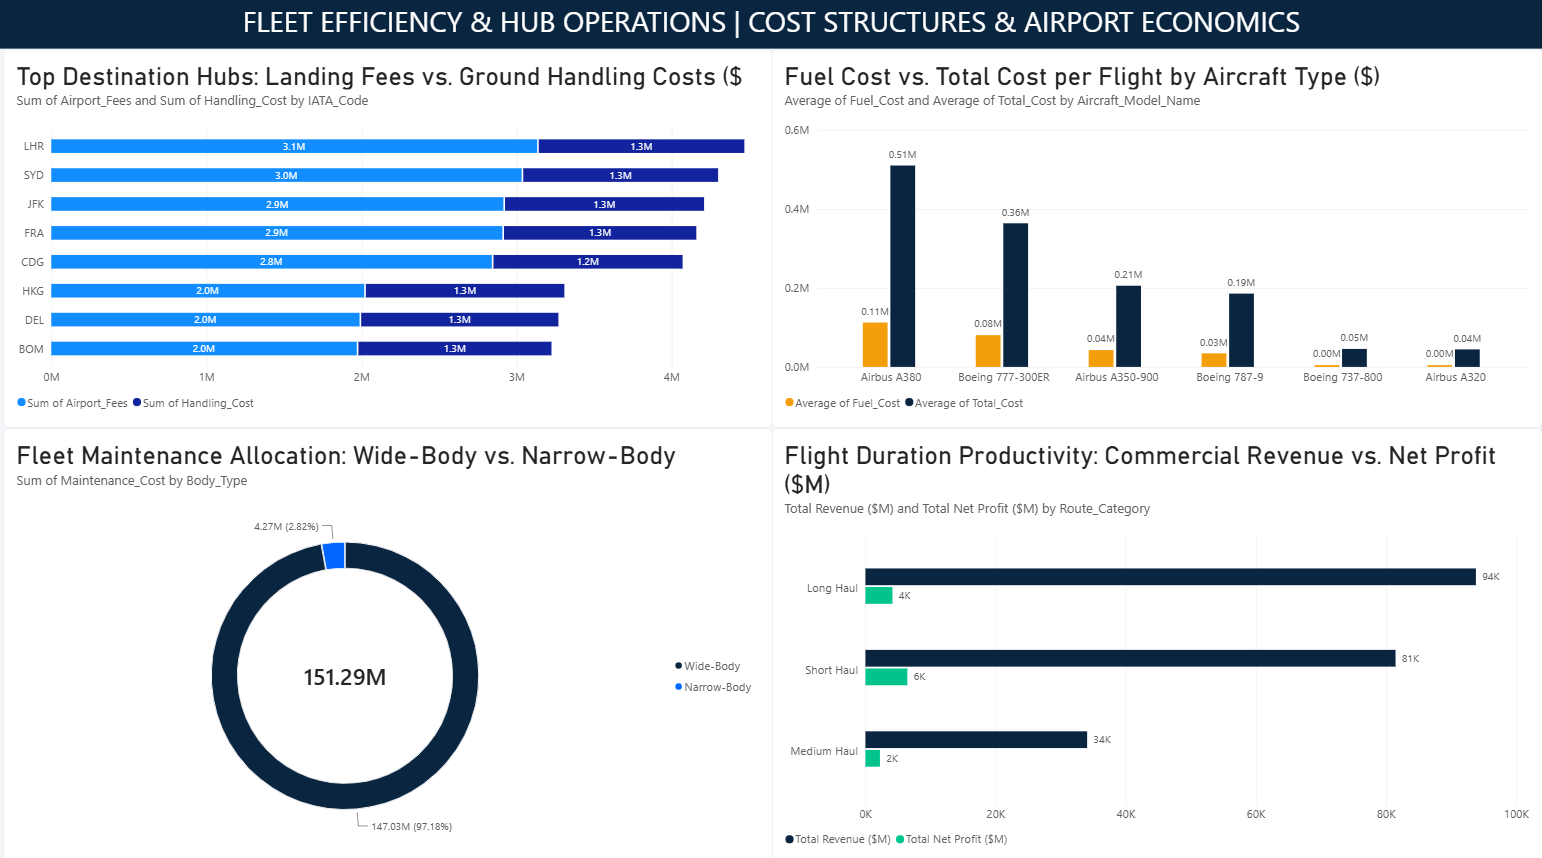

This screenshot's page, from the dashboard's own definition file:
{"tool":"powerbi","page":{"name":"4. Fleet & Hub Operations","canvas":[1920,1080],"ordinal":3},"visuals":[{"type":"shape","box":[9.1,0,1910.2,70],"z":0},{"type":"clusteredColumnChart","title":"Fuel Cost vs. Total Cost per Flight by Aircraft Type ($)","fields":{"Category":["Dim_Aircraft.Aircraft_Model_Name"],"Y":["Avg(Fact_Flight_Operations.Fuel_Cost)","Avg(Fact_Flight_Operations.Total_Cost)"]},"box":[964.7,70.9,954.1,468.2],"z":1000},{"type":"barChart","title":"Top Destination Hubs: Landing Fees vs. Ground Handling Costs ($","fields":{"Category":["Dim_Airport.IATA_Code"],"Y":["Sum(Fact_Flight_Operations.Airport_Fees)","Sum(Fact_Flight_Operations.Handling_Cost)"]},"box":[14.2,70.9,950.6,468.2],"z":1001},{"type":"clusteredBarChart","title":"Flight Duration Productivity: Commercial Revenue vs. Net Profit ($M)","fields":{"Category":["Dim_Route.Route_Category"],"Y":["Fact_Route_Performance.Total Revenue ($M)","Fact_Route_Performance.Total Net Profit ($M)"]},"box":[964.7,539.1,954.1,539.1],"z":1002},{"type":"donutChart","title":"Fleet Maintenance Allocation: Wide-Body vs. Narrow-Body","fields":{"Category":["Dim_Aircraft.Body_Type"],"Y":["Sum(Fact_Flight_Operations.Maintenance_Cost)"]},"box":[14,539,951,539],"z":1003}]}

Visuals, with their boxes in screenshot pixels (x1, y1, x2, y2), scaled from the page's 1920x1080 canvas onto the 1542x858 screenshot:
shape: [7, 0, 1541, 56]
"Fuel Cost vs. Total Cost per Flight by Aircraft Type ($)" clusteredColumnChart: [775, 56, 1541, 428]
"Top Destination Hubs: Landing Fees vs. Ground Handling Costs ($" barChart: [11, 56, 775, 428]
"Flight Duration Productivity: Commercial Revenue vs. Net Profit ($M)" clusteredBarChart: [775, 428, 1541, 857]
"Fleet Maintenance Allocation: Wide-Body vs. Narrow-Body" donutChart: [11, 428, 775, 856]
